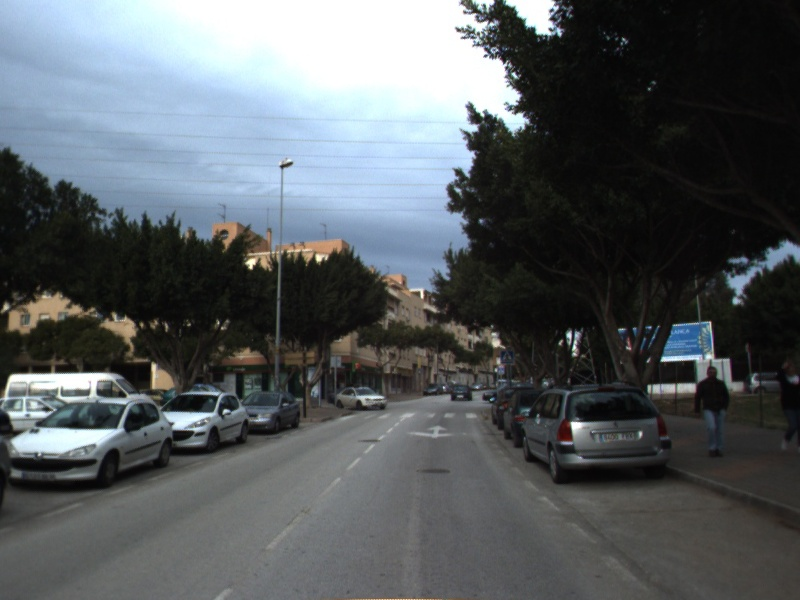STRAIGHT_LEFT_RIGHT: (405, 422, 468, 441)
